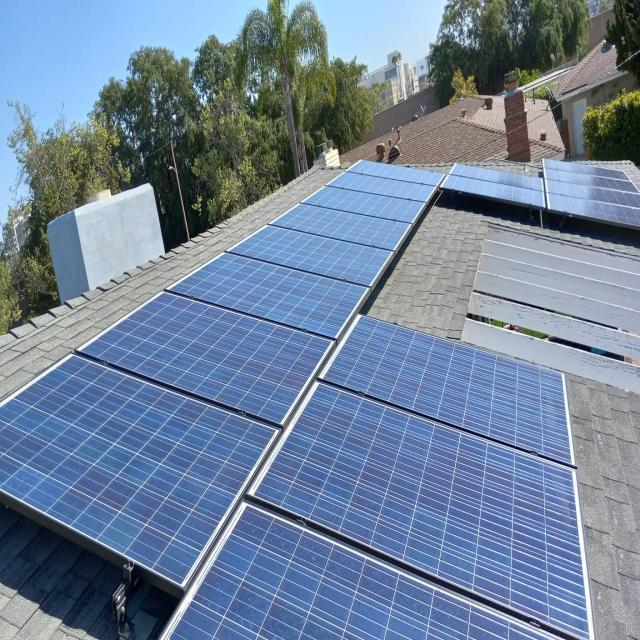no faulty: (256, 386, 591, 639), (0, 354, 283, 581), (168, 513, 538, 640), (330, 316, 567, 457), (81, 297, 324, 421)
